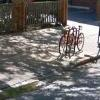Bicycle: (55, 18, 84, 58)
